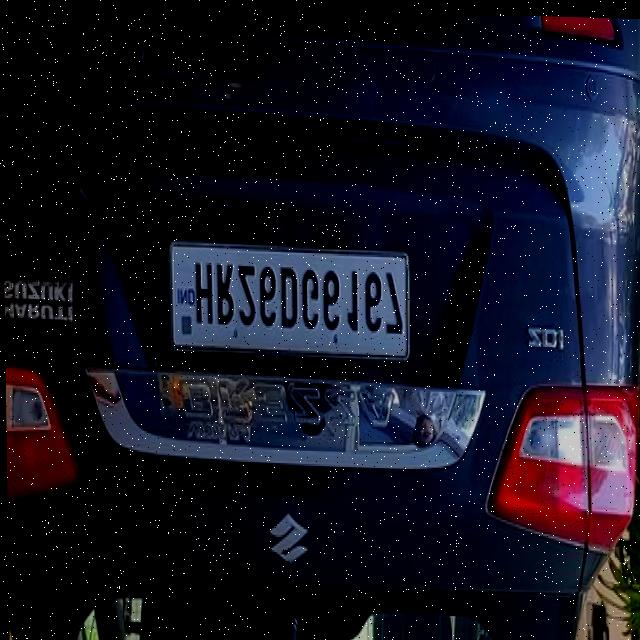plate: (166, 239, 409, 362)
